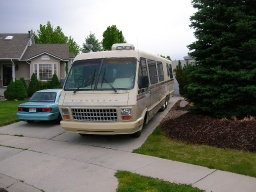car: (14, 87, 64, 123)
truck: (59, 42, 177, 139)
